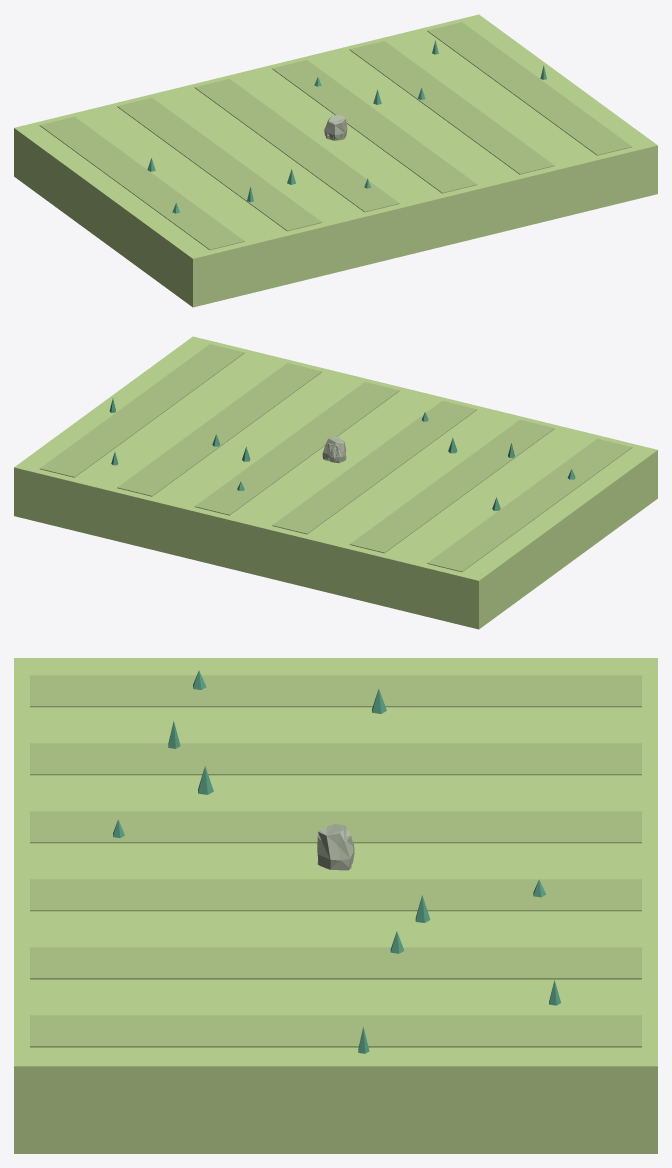
File: env_ground.glb
The picture shows the model from 3 angles, top to bottom: view 1: azimuth 30°, elevation 25°; view 2: azimuth 150°, elevation 25°; view 3: azimuth 270°, elevation 25°; orthographic projection. The views are drawn at different scales.
Visible parts, largest first — view 1: Env_GroundSlab, Env_GroundStripe5, Env_GroundStripe2, Env_GroundStripe0, Env_GroundStripe4, Env_GroundStripe1, Env_GroundStripe3, Env_Rock5; view 2: Env_GroundSlab, Env_GroundStripe5, Env_GroundStripe2, Env_GroundStripe0, Env_GroundStripe4, Env_GroundStripe1, Env_GroundStripe3; view 3: Env_GroundSlab, Env_GroundStripe4, Env_GroundStripe1, Env_GroundStripe5, Env_GroundStripe3, Env_GroundStripe0, Env_GroundStripe2, Env_Rock5.
Part boxes in pixels (box(x1,y1,x2,y2)): Env_GroundSlab: box(14, 14, 657, 307); Env_GroundStripe5: box(427, 22, 632, 155); Env_GroundStripe2: box(194, 79, 399, 212); Env_GroundStripe0: box(39, 116, 244, 250); Env_GroundStripe4: box(349, 41, 554, 174); Env_GroundStripe1: box(117, 98, 322, 231); Env_GroundStripe3: box(272, 60, 477, 193); Env_Rock5: box(325, 115, 347, 140); Env_GroundSlab: box(14, 336, 657, 629); Env_GroundStripe5: box(39, 344, 244, 477); Env_GroundStripe2: box(272, 401, 477, 534); Env_GroundStripe0: box(427, 438, 632, 572); Env_GroundStripe4: box(117, 363, 322, 496); Env_GroundStripe1: box(349, 420, 554, 553); Env_GroundStripe3: box(194, 382, 399, 515); Env_GroundSlab: box(14, 658, 657, 1153); Env_GroundStripe4: box(30, 947, 641, 979); Env_GroundStripe1: box(30, 743, 641, 775); Env_GroundStripe5: box(30, 1015, 641, 1047); Env_GroundStripe3: box(30, 879, 641, 911); Env_GroundStripe0: box(30, 675, 641, 707); Env_GroundStripe2: box(30, 811, 641, 843); Env_Rock5: box(317, 824, 354, 870).
Bounding box in the file's own units: 12 × 1.68 × 8.
